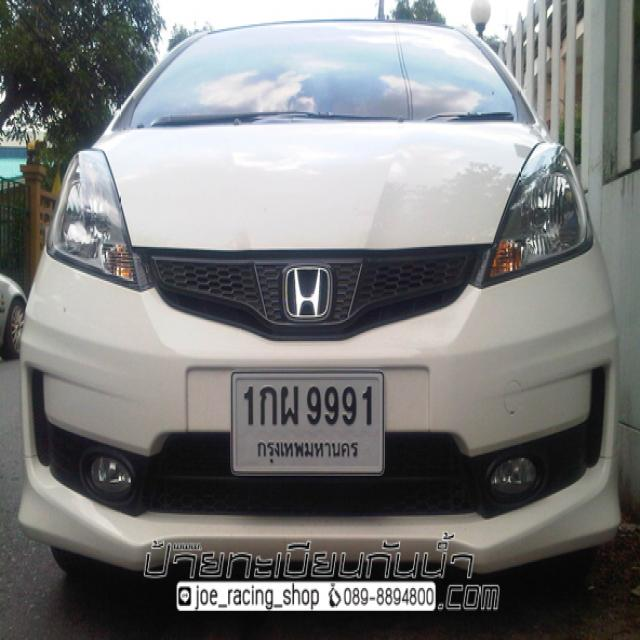license_plate: (230, 365, 386, 478)
